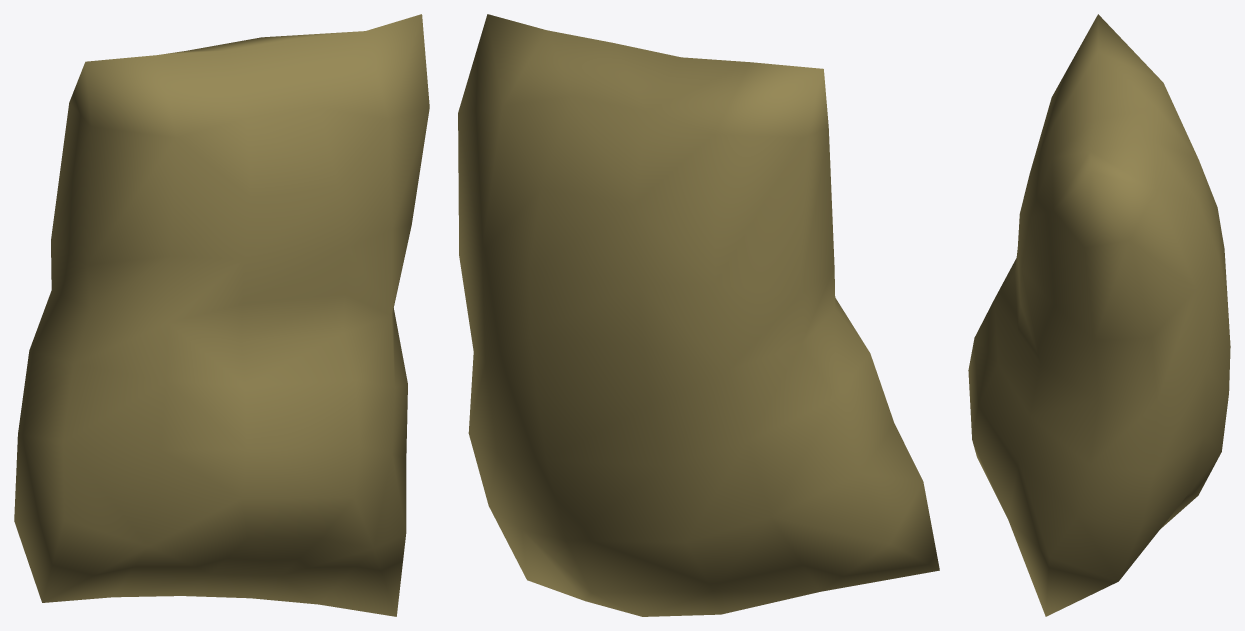
Rendered from SACKWHEAT.obj.
The picture shows the model from 3 angles, left to right: view 1: azimuth 30°, elevation 25°; view 2: azimuth 150°, elevation 25°; view 3: azimuth 270°, elevation 25°; orthographic projection. The views are drawn at different scales.
Parts seen in each view (by area): view 1: SackWheat; view 2: SackWheat; view 3: SackWheat.
Boxes of the visible parts, left/top/right/bottom form: SackWheat: left=14, top=14, right=429, bottom=616; SackWheat: left=458, top=14, right=939, bottom=616; SackWheat: left=968, top=14, right=1230, bottom=616.
Size of the model in its own units: 32.58 by 44.89 by 21.7.
